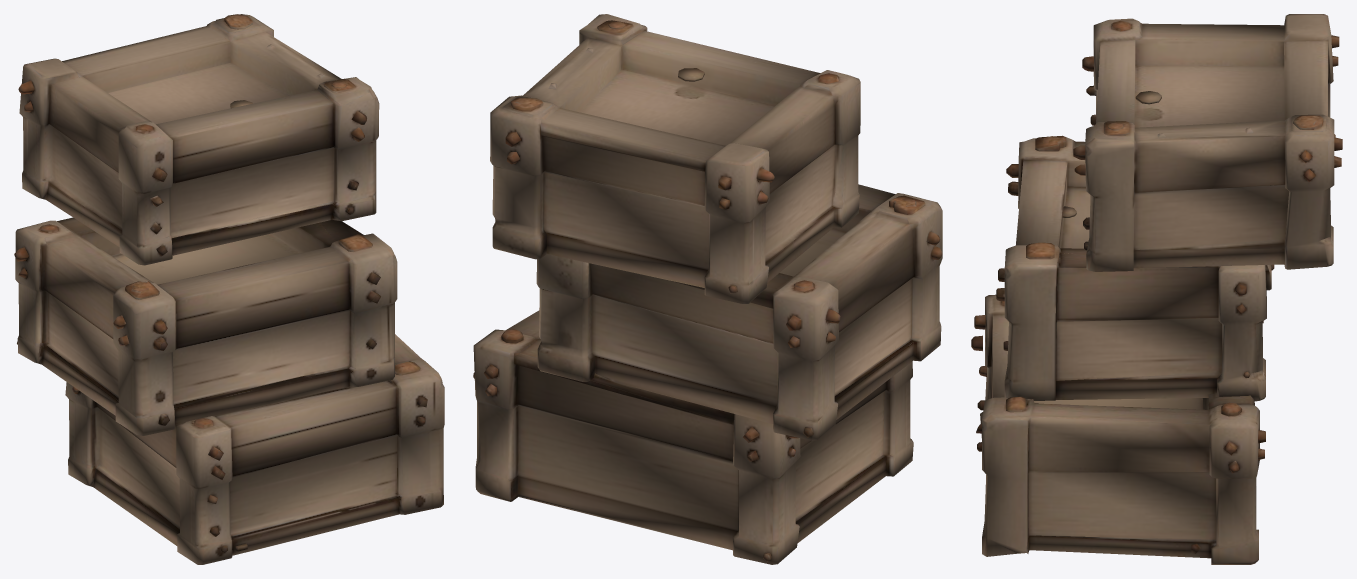
File: Hub_CrateStack.glb
3 renders of one model, left to right at view 1: azimuth 30°, elevation 25°; view 2: azimuth 150°, elevation 25°; view 3: azimuth 270°, elevation 25°, orthographic. The views are drawn at different scales.
Visible parts, largest first — view 1: tripo_node_f40013fd-dcac-4f76-a291-74434921a6a5; view 2: tripo_node_f40013fd-dcac-4f76-a291-74434921a6a5; view 3: tripo_node_f40013fd-dcac-4f76-a291-74434921a6a5.
Part boxes in pixels (bbox=[...]): tripo_node_f40013fd-dcac-4f76-a291-74434921a6a5: bbox=[14, 14, 444, 564]; tripo_node_f40013fd-dcac-4f76-a291-74434921a6a5: bbox=[473, 14, 942, 564]; tripo_node_f40013fd-dcac-4f76-a291-74434921a6a5: bbox=[971, 14, 1342, 564].
Size of the model in its own units: 0.9013 by 1 by 0.8192.
Materials: 1 (1 with a texture image).
